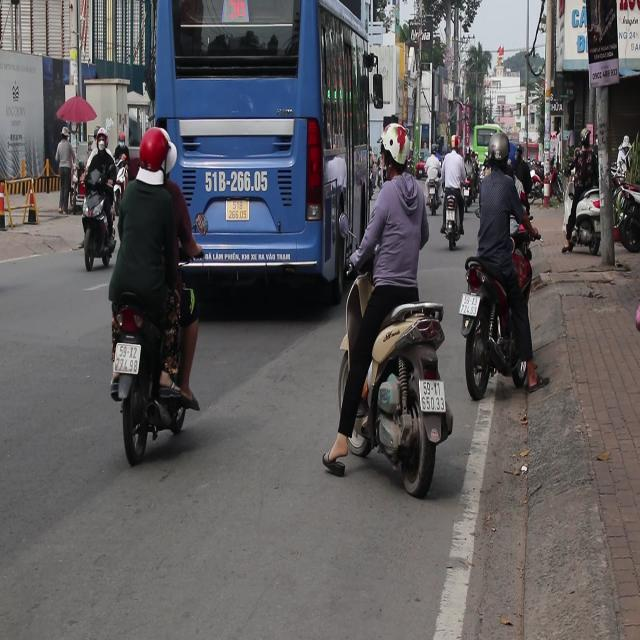bus: (148, 1, 354, 302), (464, 126, 515, 184)
motorbike: (344, 294, 454, 494), (100, 282, 200, 465), (564, 161, 639, 259), (76, 174, 132, 284), (445, 186, 465, 252), (116, 152, 134, 206), (420, 181, 435, 223), (462, 180, 476, 214), (528, 184, 542, 208), (416, 159, 427, 180)
